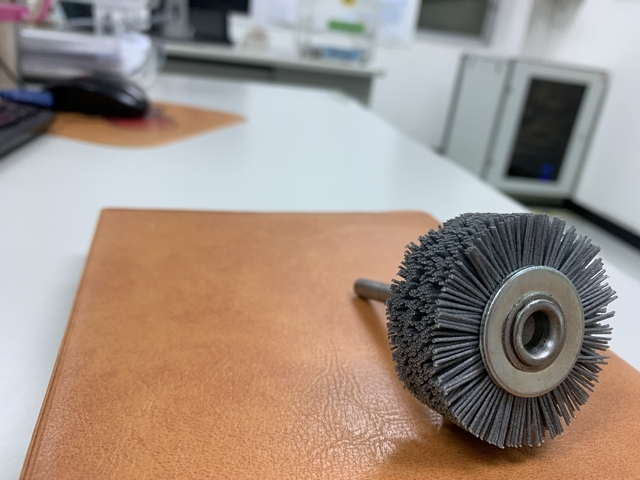Wheel Brush: (342, 204, 617, 450), (288, 210, 588, 390)
